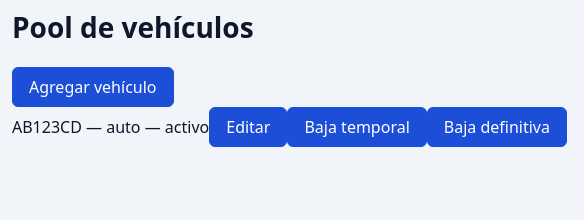
Test case: VehiculosAdminPage › muestra un mensaje de error si la acción falla
This screenshot has width=584, height=220.
Expected: the text "AB123CD — auto — activo" is shown, [12,116,209,138]
Click the button "Baja temporal". click: (357,126)
box: [288,106,427,146]
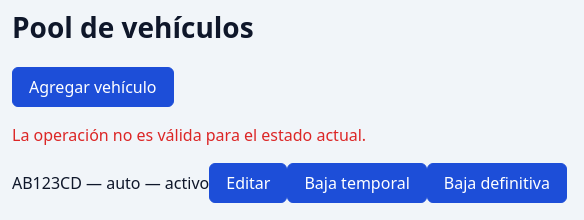
Now the message shows "operación no es válida", box [12,124,366,146]
